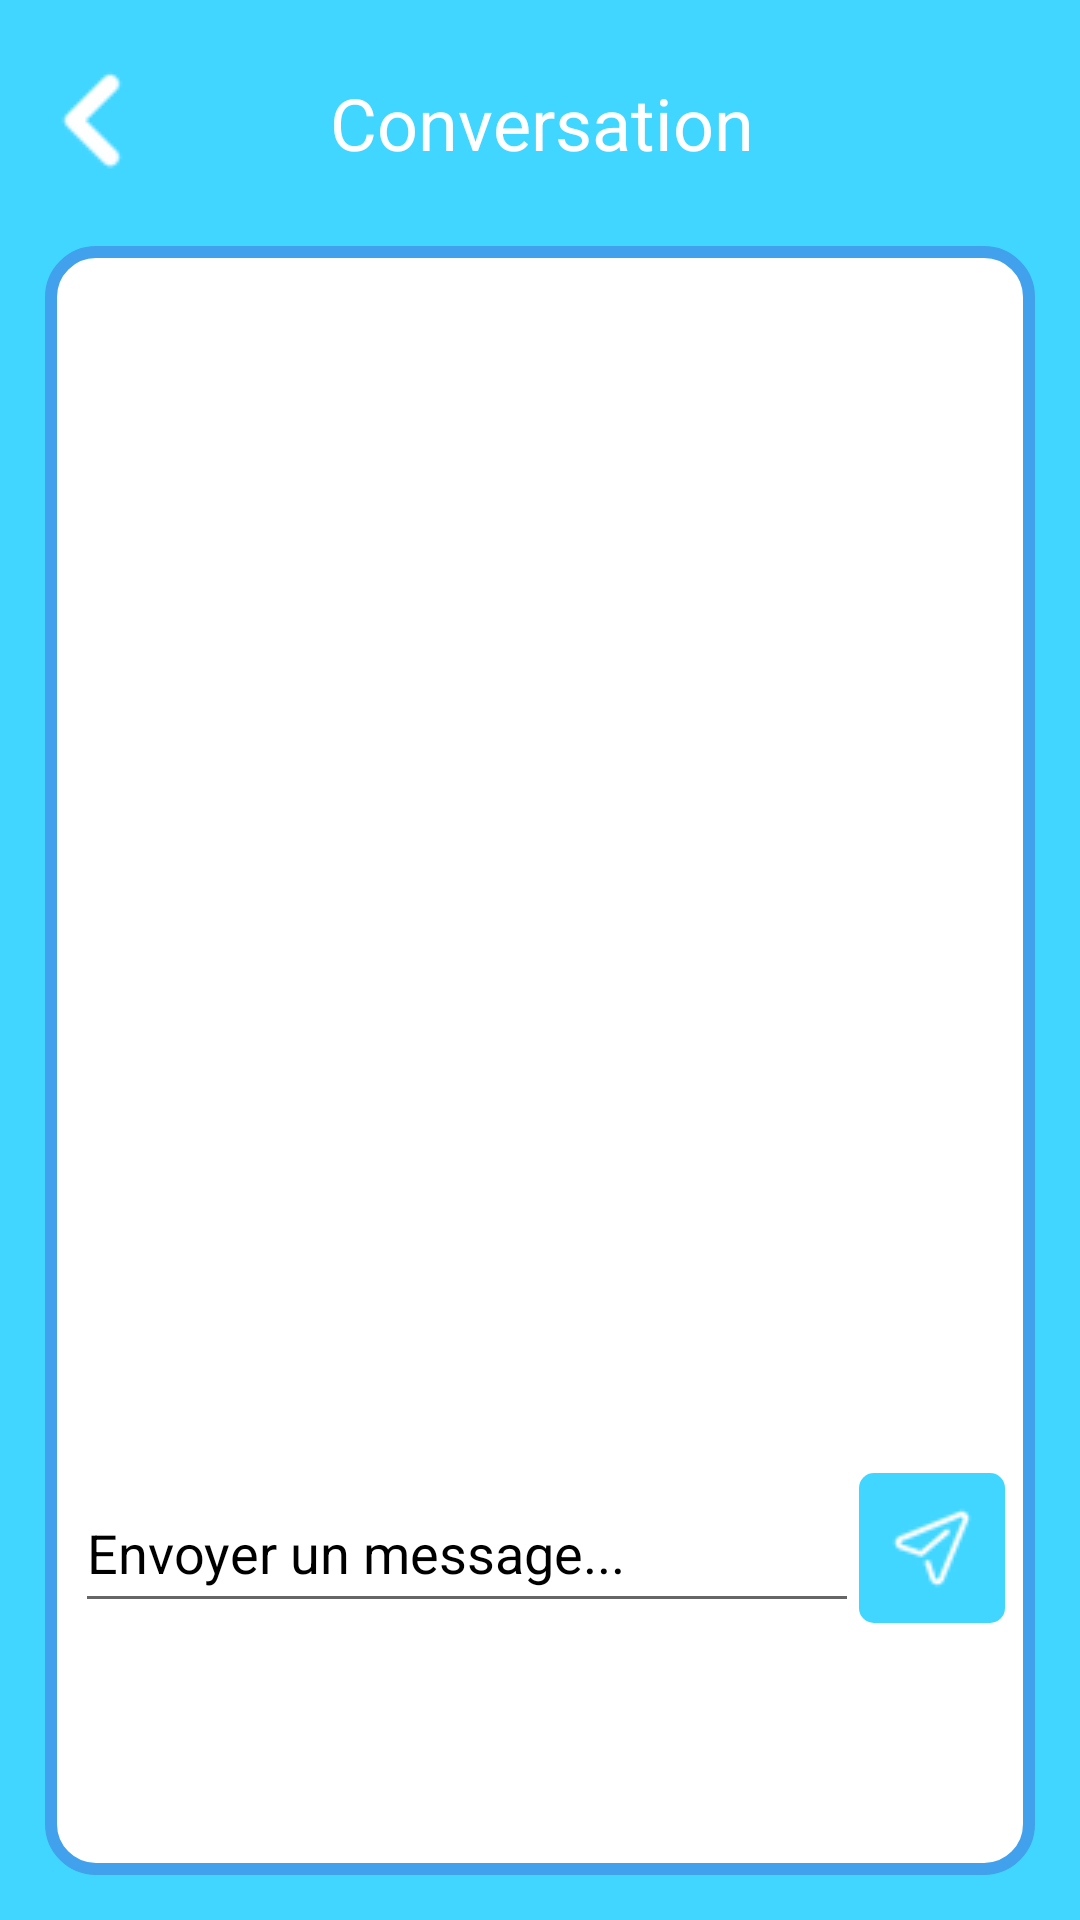

Named icons in this screenshot (1080×1920) and their bounding boxes, region(x1, y1, x2, y2):
leftcaret: region(63, 74, 121, 168)
send: region(859, 1473, 1005, 1623)
